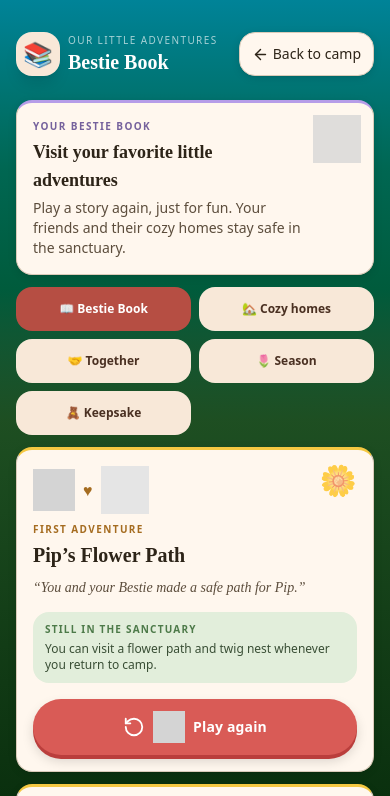
it: Bestie Book › keeps the completed story, Bestie, and sanctuary change together in one memory page
Expected: the heading "Pip’s Flower Path" is shown, [33,544,185,566]
Expected: the text "flower path and twig nest" is shown, [118,640,271,657]
What coordinates should you click on to do the following:
click the button "🏡 Cozy homes"
I would click on:
 (286, 309)
Its box is [199,287,374,331].
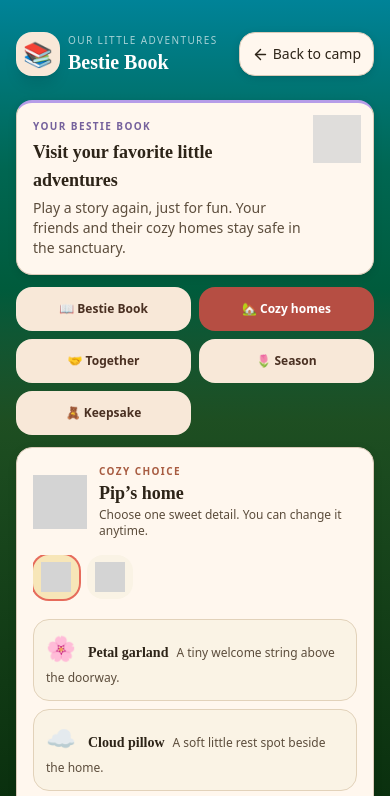
Now the heading "Pip’s home" is shown, box [99,483,184,503]
